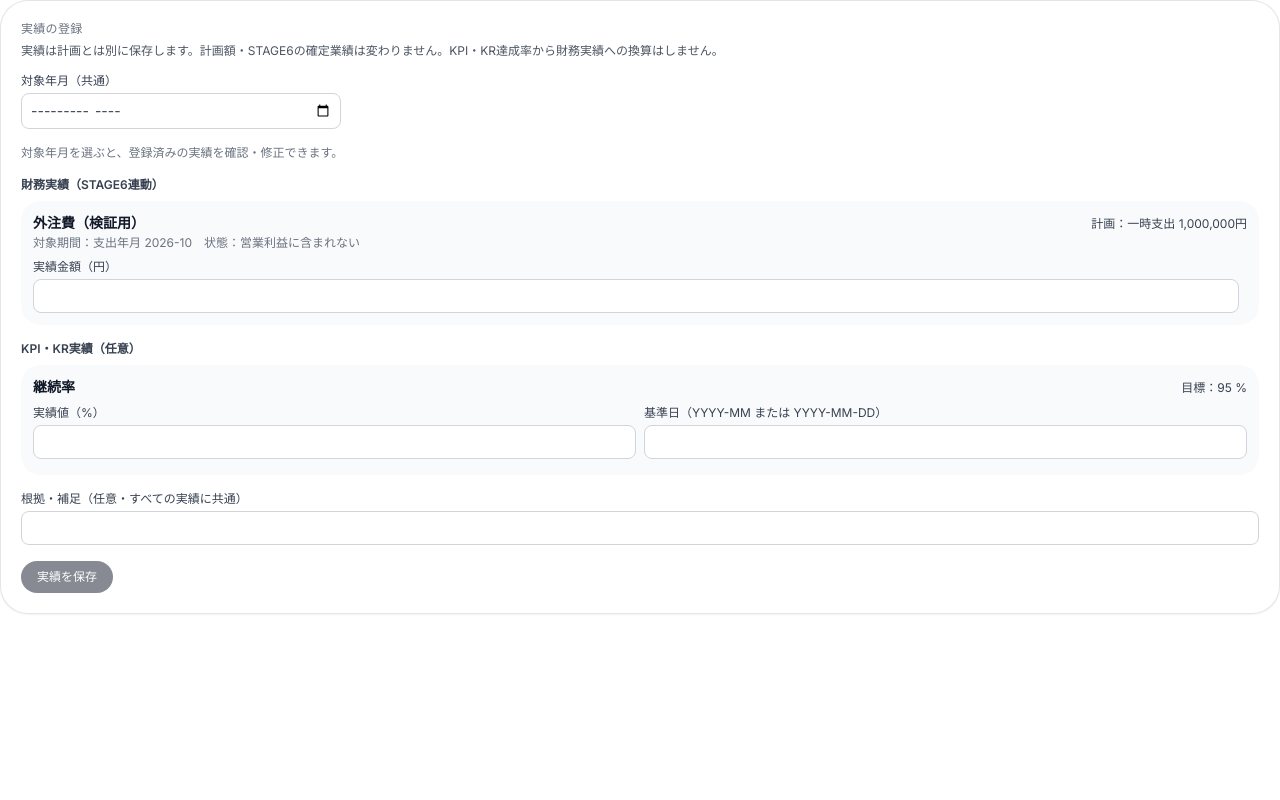
Test: 実績の登録（ActualRegistrationSection） › 一部だけ保存できたら、すべて保存済みとは表示せず、失敗した項目の入力を残す
The image size is (1280, 800).
Type "2026-11" into the field labelled "対象年月" at x=181, y=111, box [21,93,341,129]
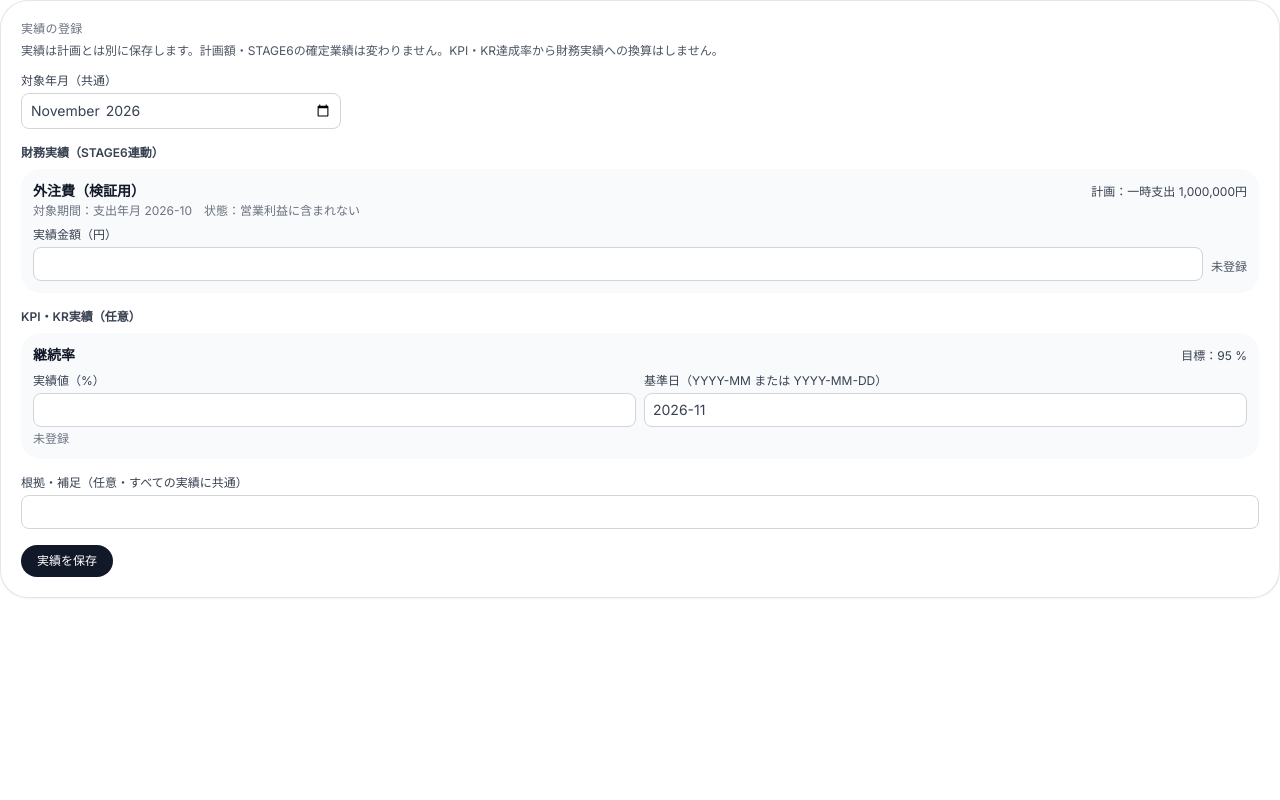
Type "100" into the field named "外注費（検証用）の実績金額" at x=618, y=264, box [33,247,1203,281]
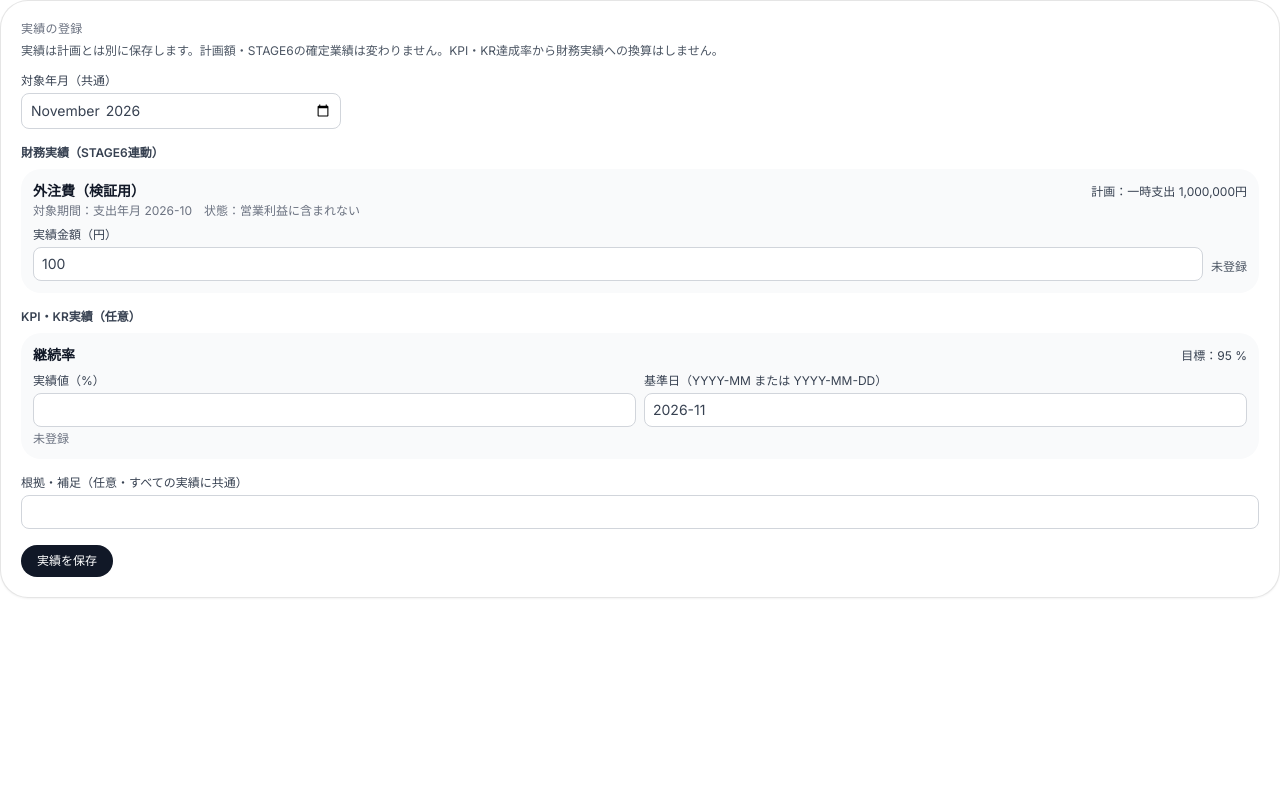
Type "90" into the field named "継続率の実績値（%）" at x=334, y=410, box [33,393,636,427]
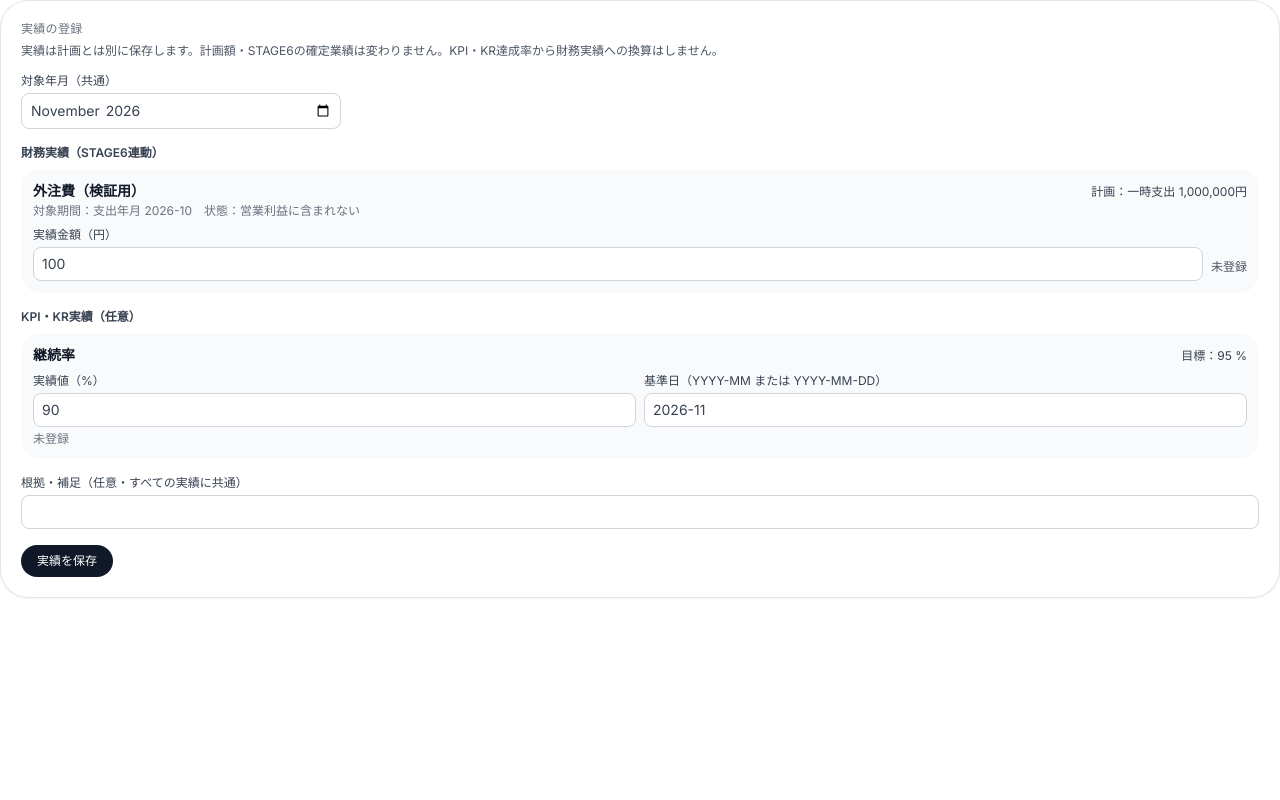
Click the button "実績を保存" at x=67, y=561, box [21,545,113,577]
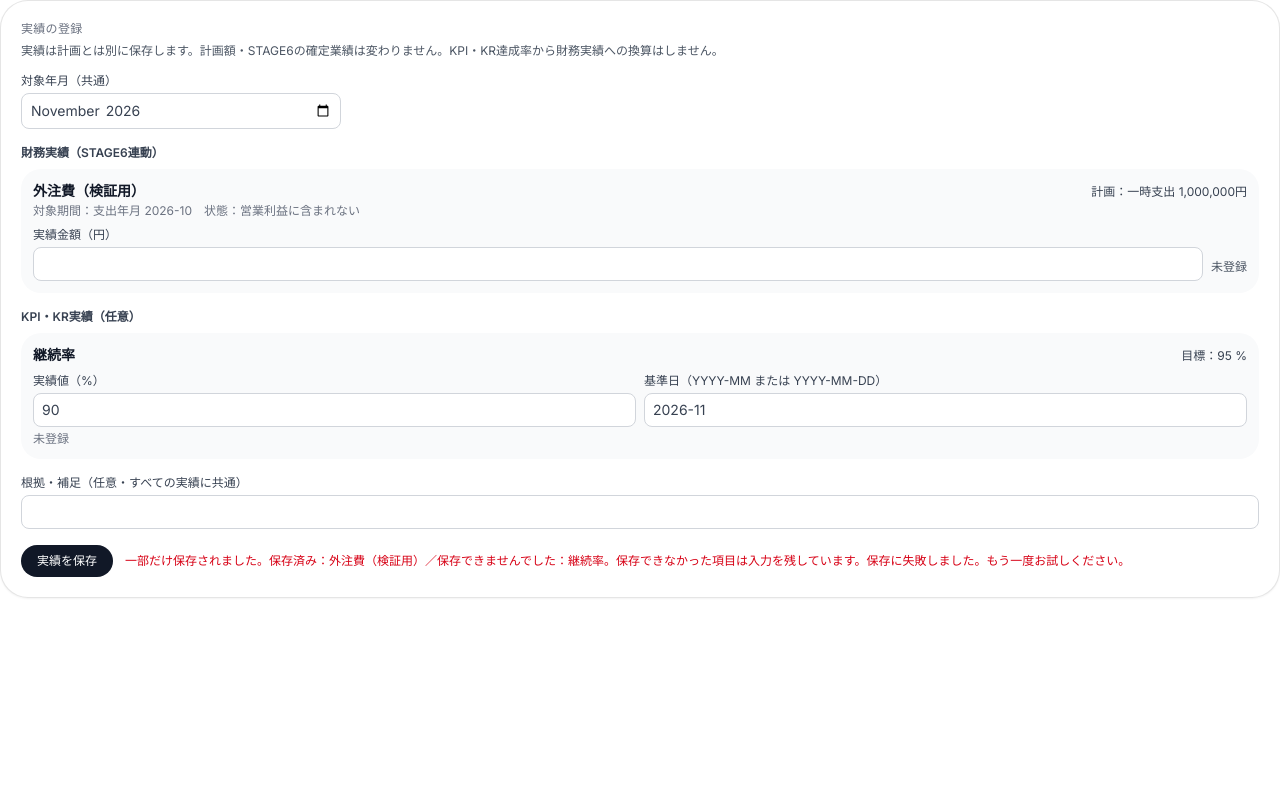
Result: the message shows "一部だけ保存されました" at [125,553,1130,568]
Result: the message shows "保存できませんでした：継続率" at [125,553,1130,568]
Result: the field named "外注費（検証用）の実績金額" is empty at [33,247,1203,281]
